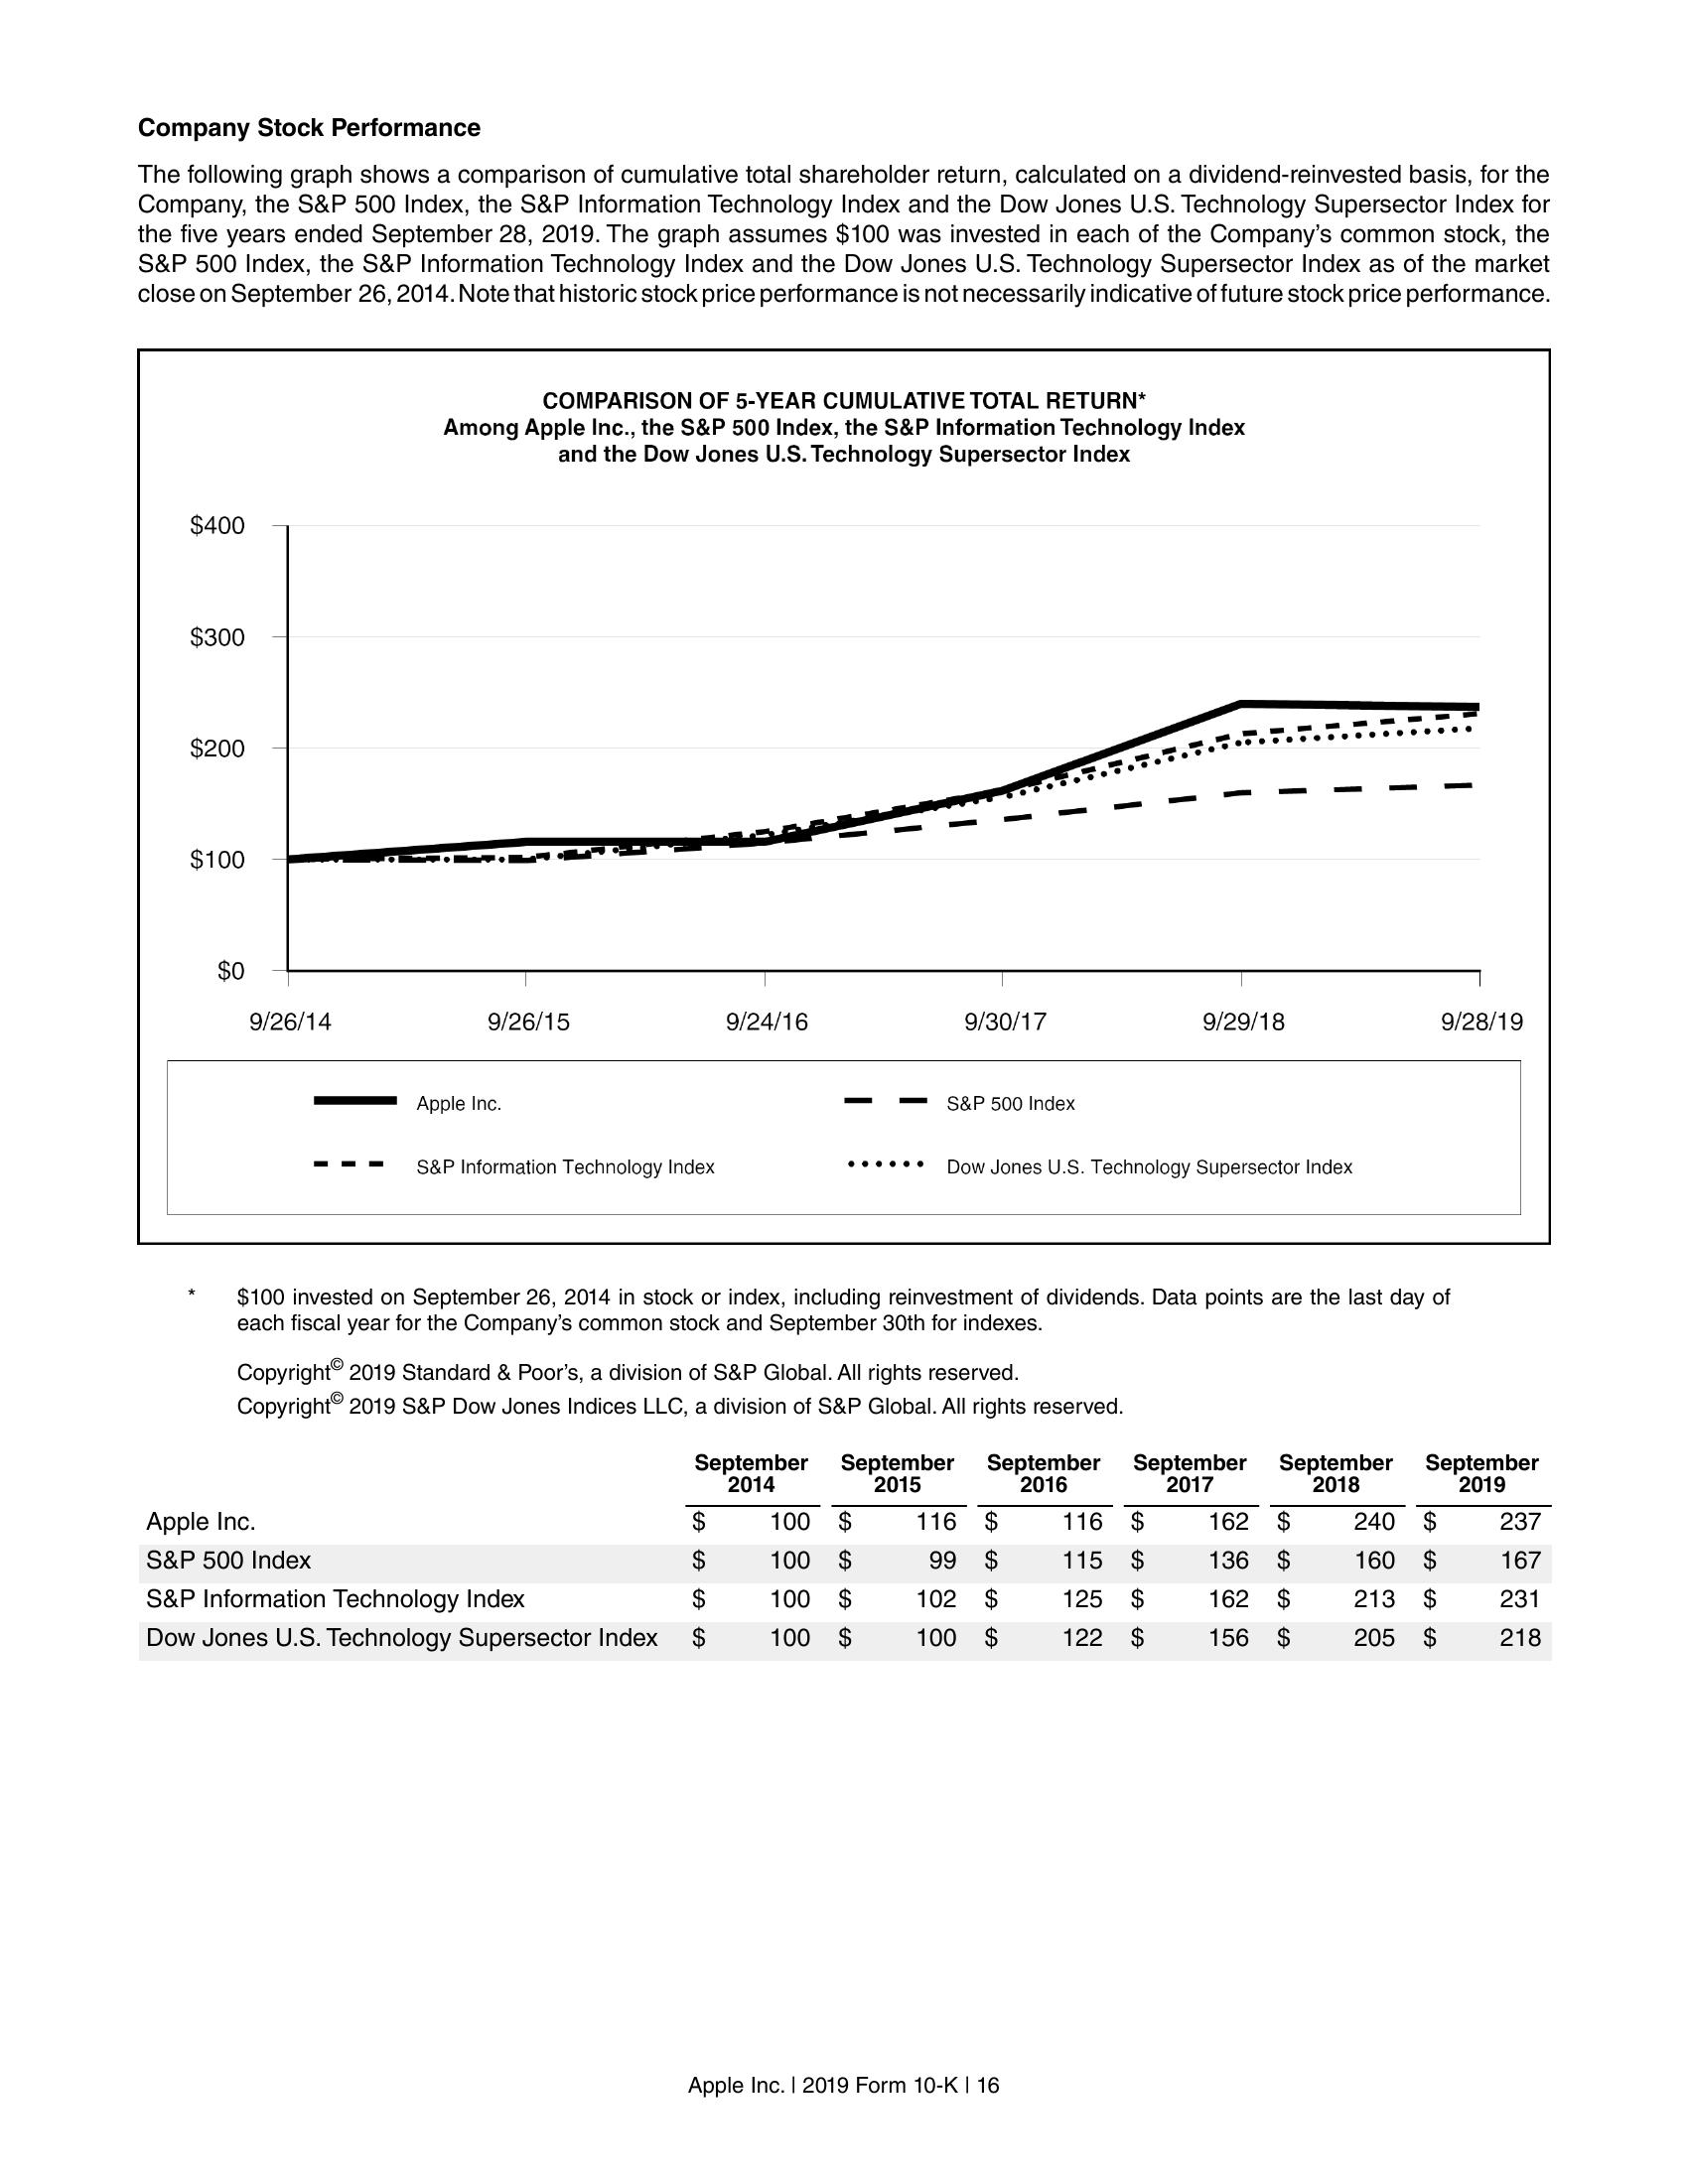table: (122, 1448, 1553, 1659)
